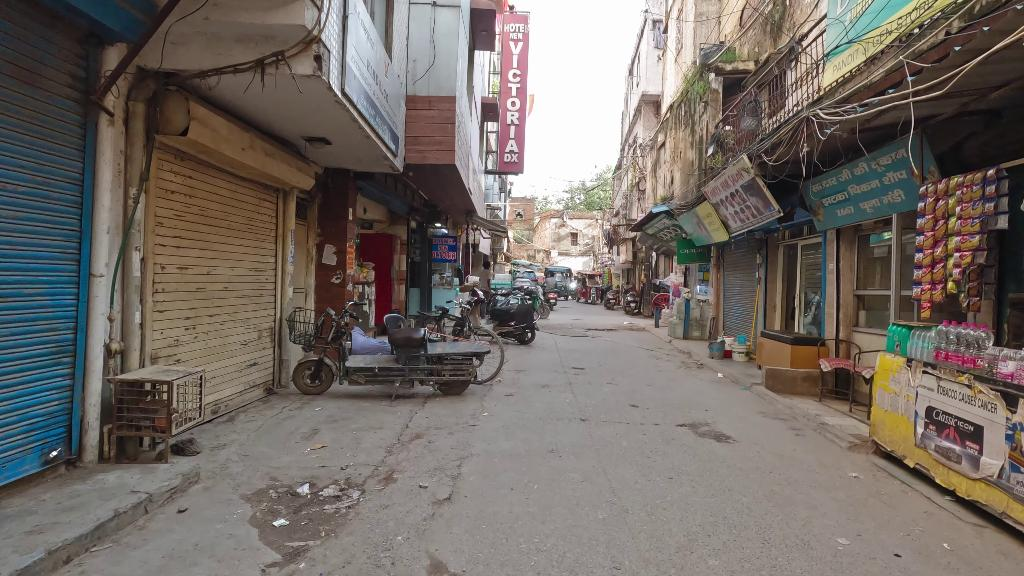garbage: (291, 481, 311, 501), (273, 511, 289, 528)
